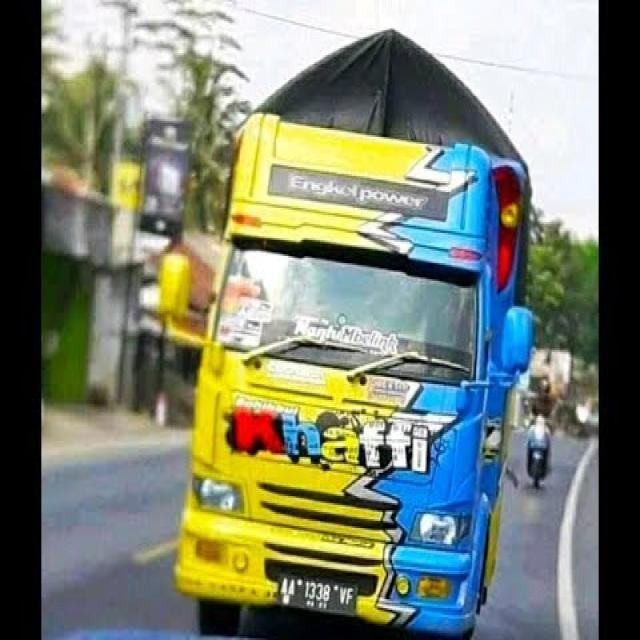truck: (159, 25, 532, 638)
